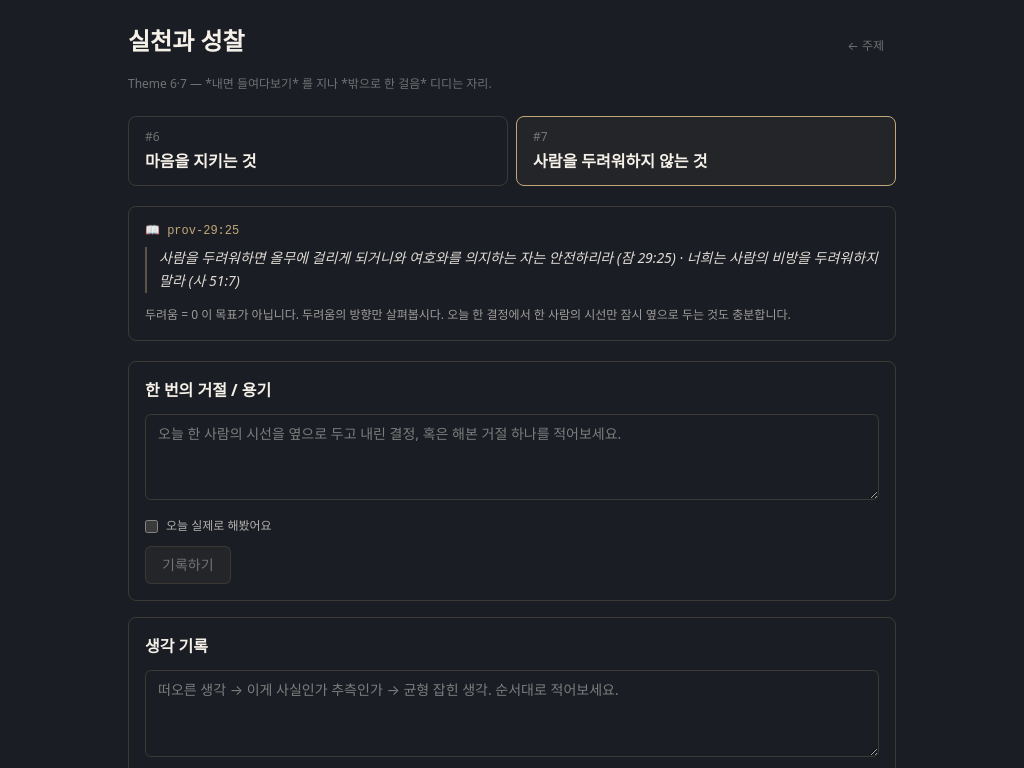
Test: /topics/practice › 아무것도 없으면 기록 버튼이 잠기고, 체크만 해도 열린다
expect the button "기록하기" is disabled: met, box top-left (145, 546), bottom-right (230, 584)
What coordinates should you click on to do the following:
click the checkbox labelled "오늘 실제로 해봤어요"
I would click on:
 (152, 526)
Its box is top-left (145, 520), bottom-right (158, 533).
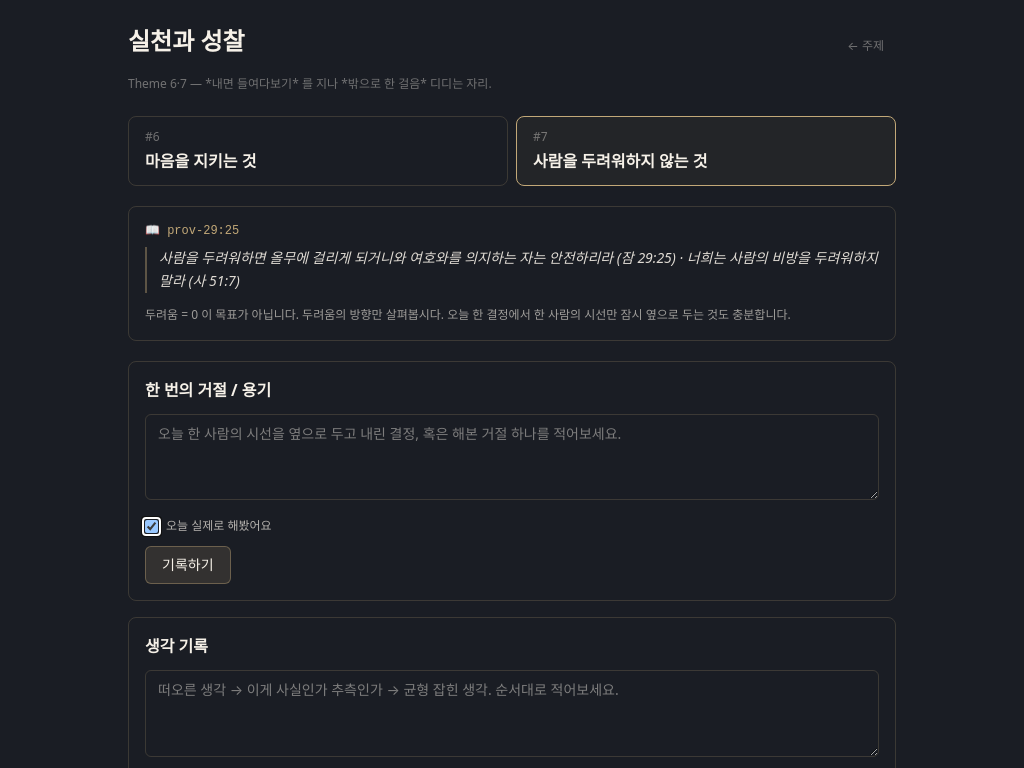
expect the button "기록하기" is enabled: met, box top-left (145, 546), bottom-right (230, 584)
